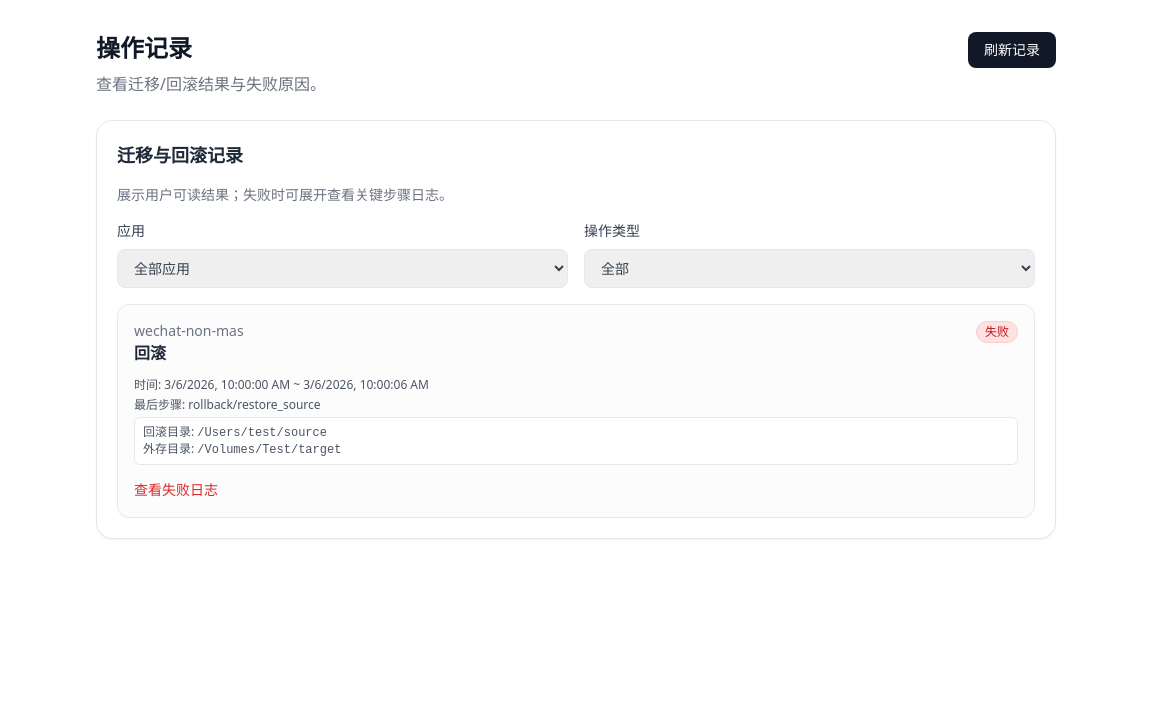
Test: OperationLogExportView › limits expanded failure details to latest six logs
Click the button "查看失败日志".
click(176, 490)  # box left=134, top=480, right=218, bottom=500
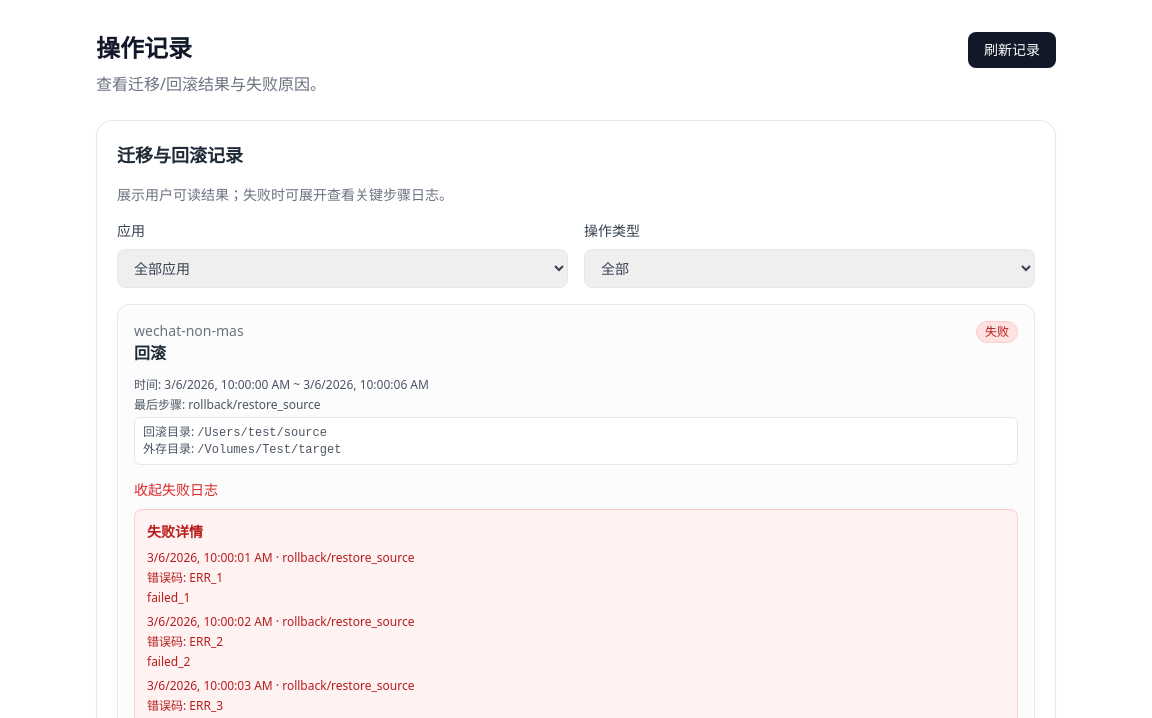
Expected: the text "failed_1" is shown, left=147, top=589, right=190, bottom=606
